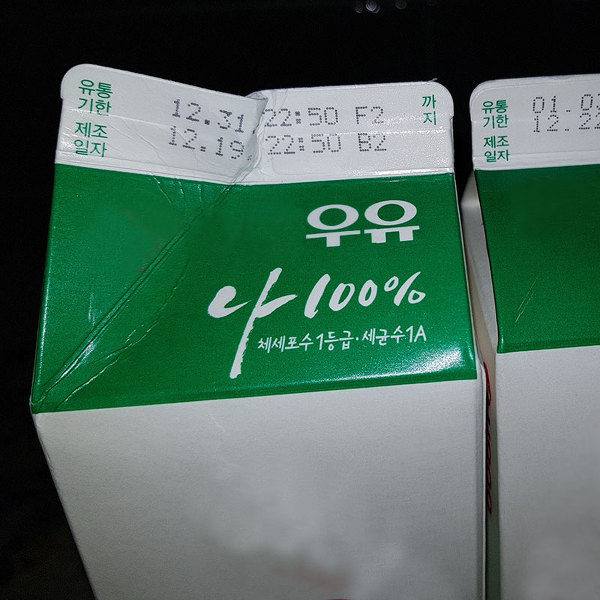milk: (28, 61, 487, 595), (459, 72, 600, 597)
